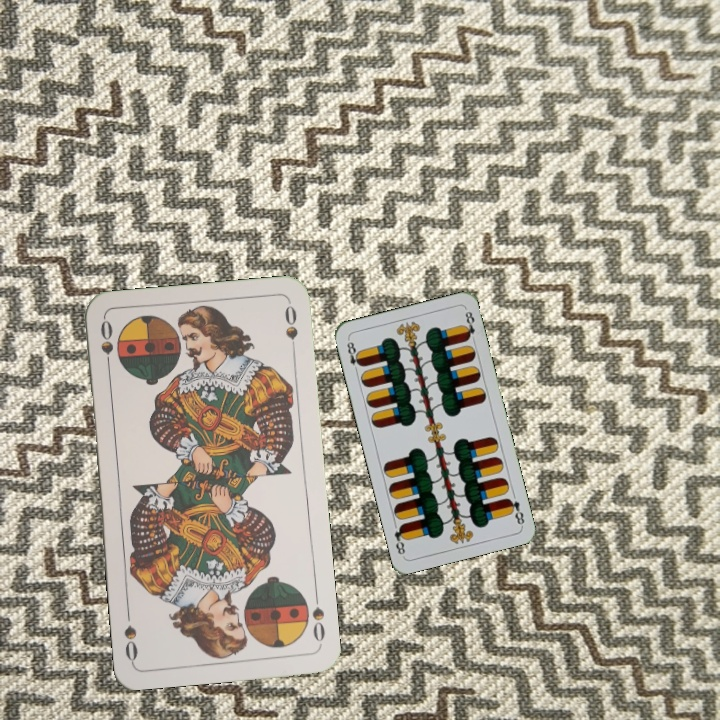E8: (343, 336, 365, 376), (503, 494, 527, 528)
SO: (96, 316, 116, 375), (308, 589, 328, 648)
